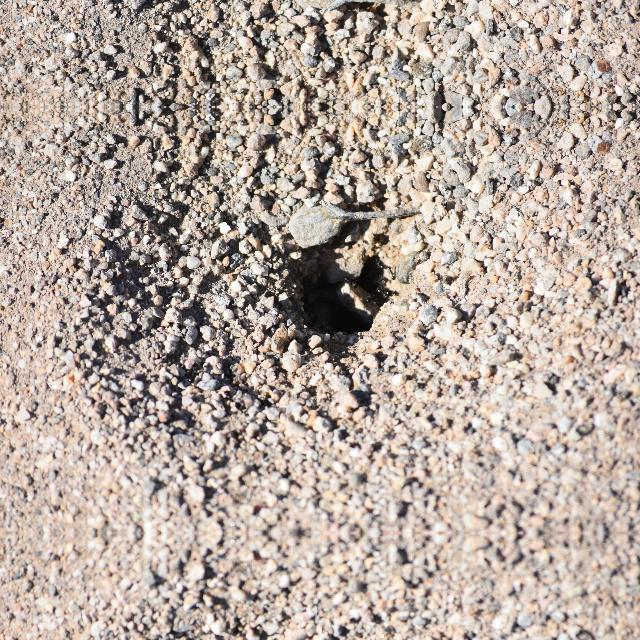Messor: (222, 388, 250, 420), (376, 282, 404, 302), (182, 365, 202, 381)
